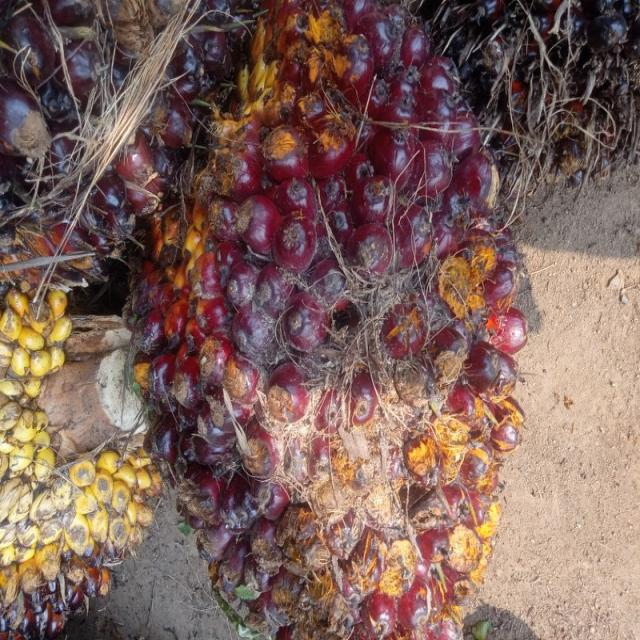fraksi 1: (122, 43, 529, 600)
